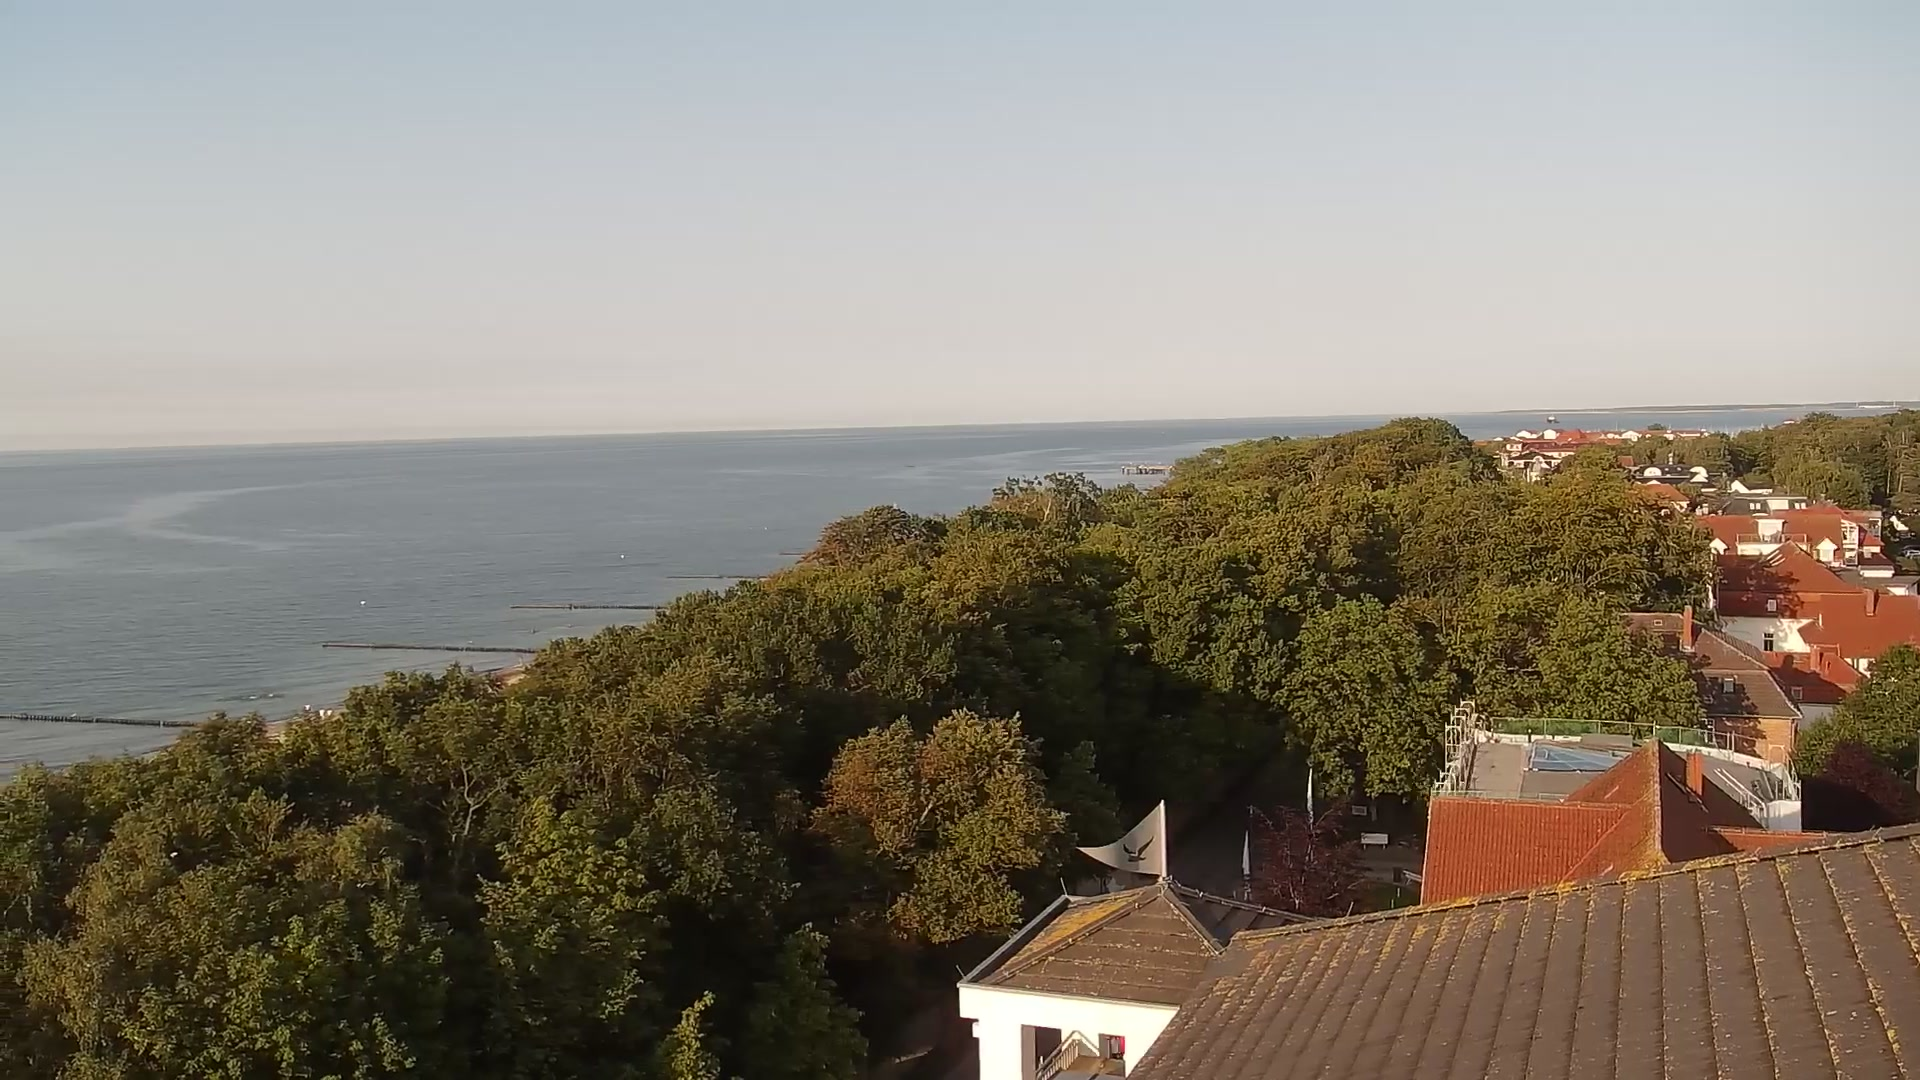land: (1899, 545, 1920, 555), (1904, 549, 1920, 558)
sea: (1545, 413, 1557, 423)
